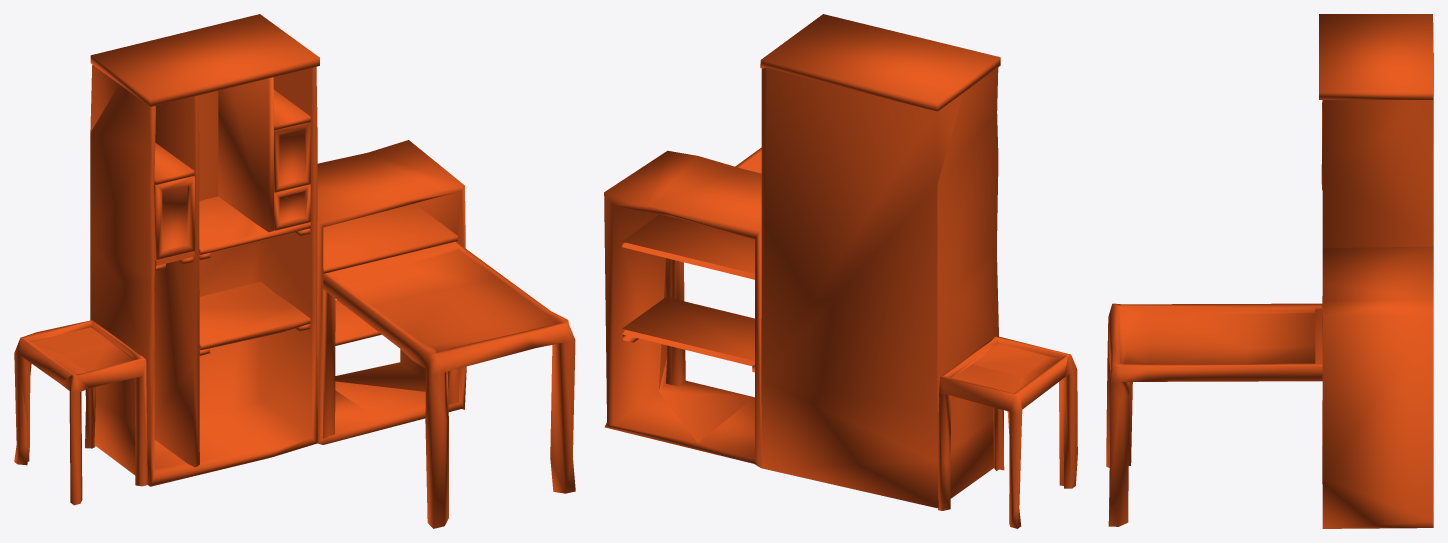
The model's file is furniture_collider.fbx.
3 views of the same model, side by side, from view 1: azimuth 30°, elevation 25°; view 2: azimuth 150°, elevation 25°; view 3: azimuth 270°, elevation 25° (orthographic). The views are drawn at different scales.
Visible parts, largest first — view 1: furniture_collider; view 2: furniture_collider; view 3: furniture_collider.
Boxes of the visible parts, x1,y1,x2,y2 form: furniture_collider: (14,14,575,528); furniture_collider: (604,14,1077,528); furniture_collider: (1106,14,1433,528).
Size of the model in its own units: 1.9 by 1.79 by 1.44.
